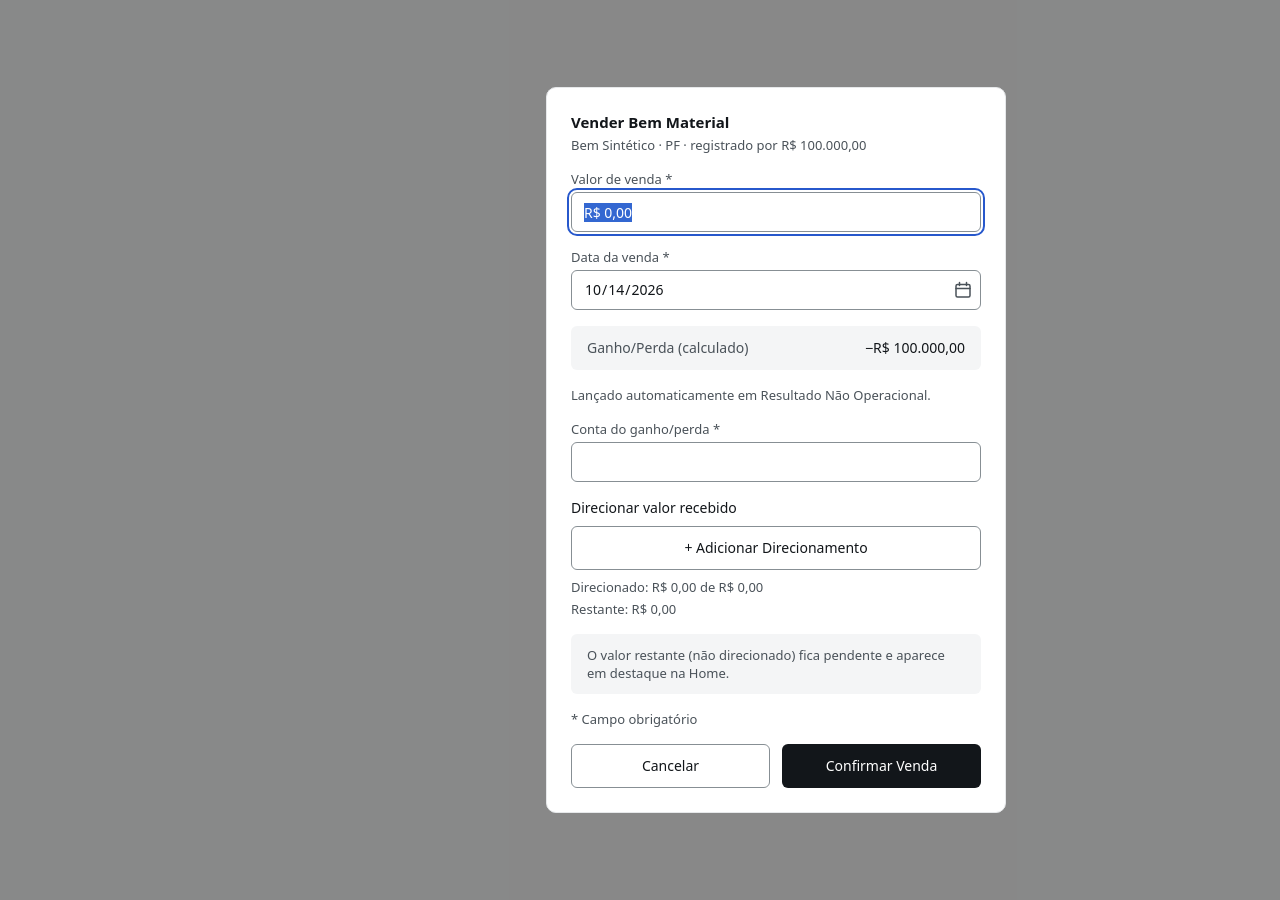
Scenario: Vender Bem Material — Destino de Passivo (files_design/03 "Objeto Direcionamento") › filtra a lista de passivos ao digitar, igual ao padrão de busca/criar categoria
Click the button "+ Adicionar Direcionamento" at (776, 548), box [571,526,981,570]
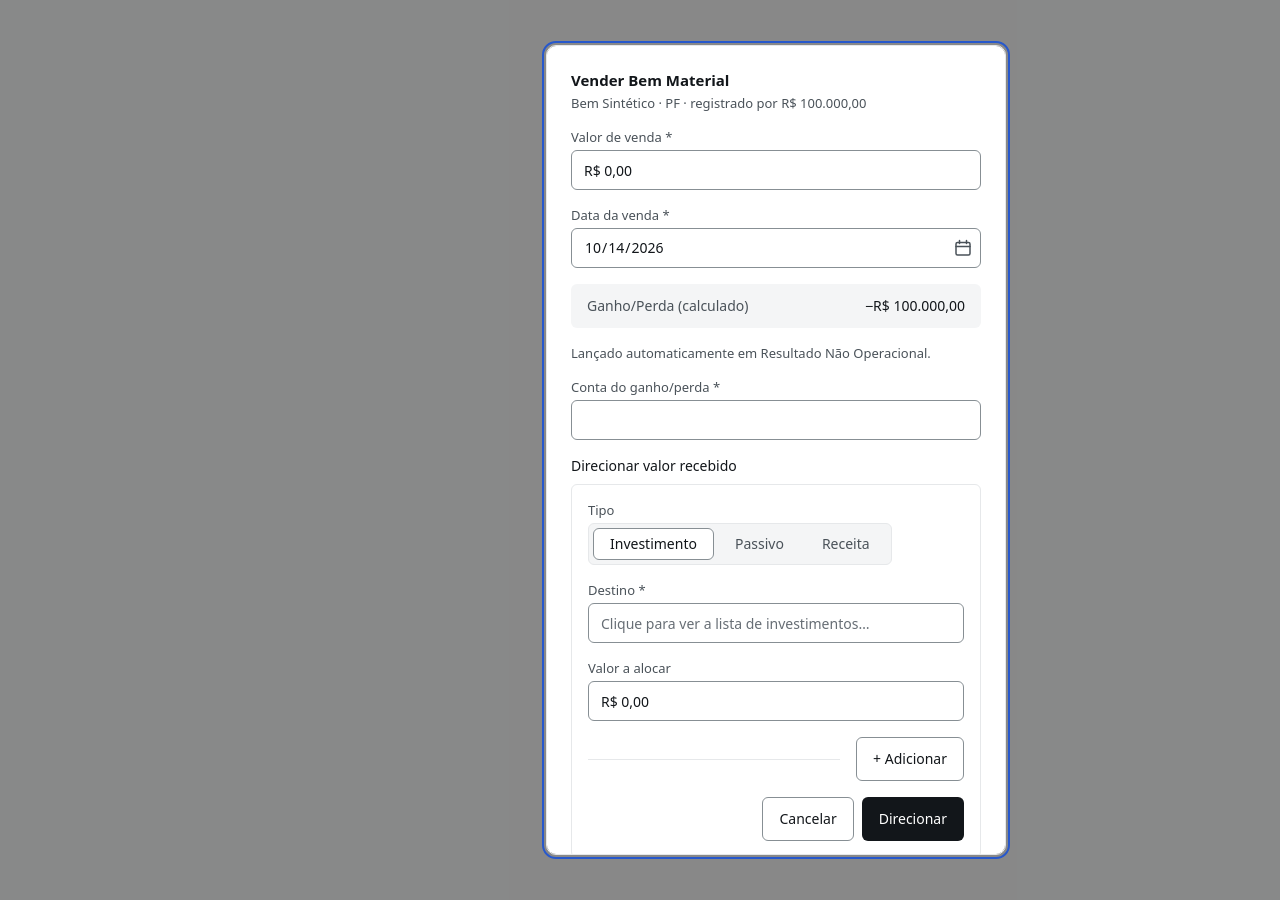
Click the radio button labelled "Passivo" at (759, 544), box [718,528,801,560]
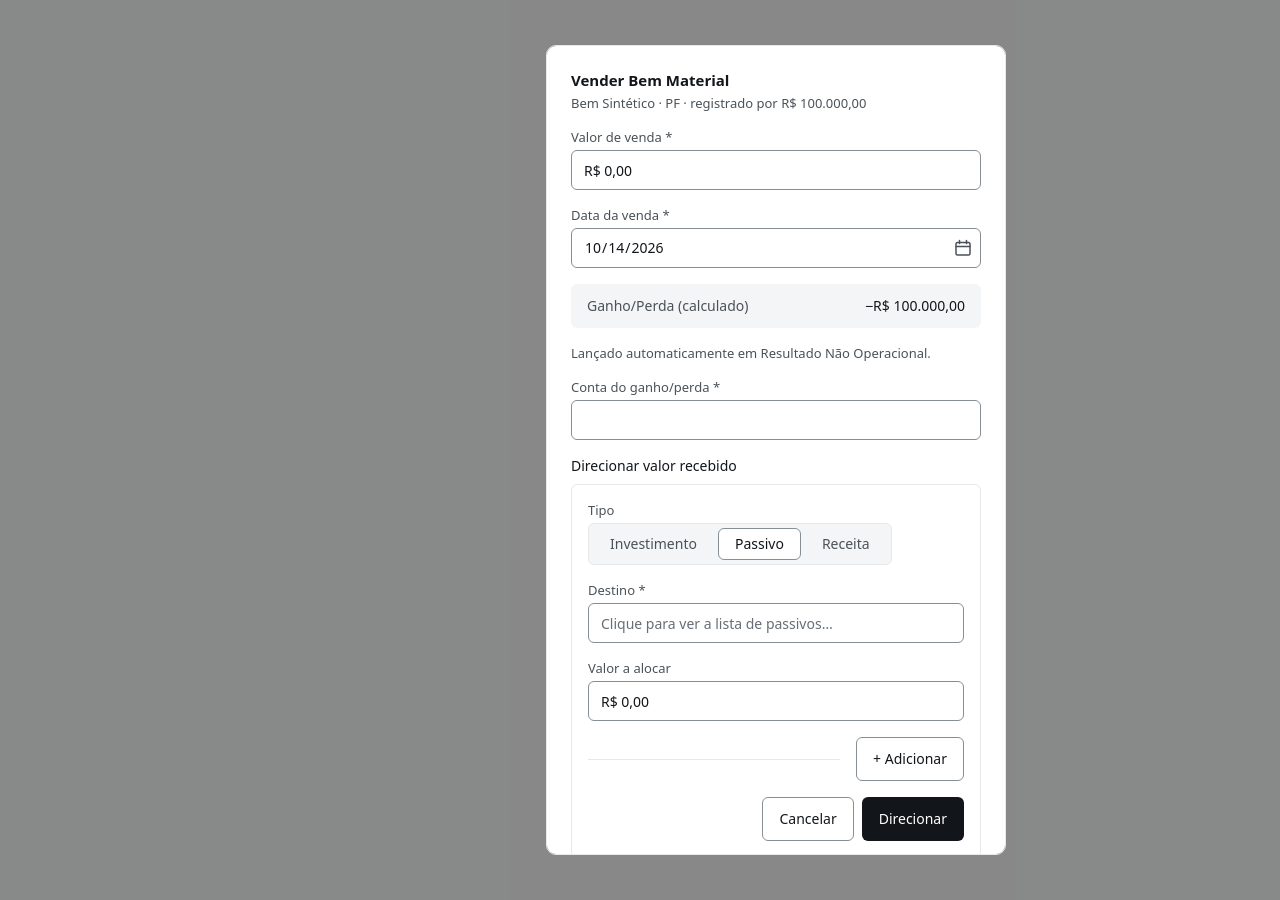
Type "Cartão" into the field labelled "Destino" at (776, 623), box [588,603,964,643]
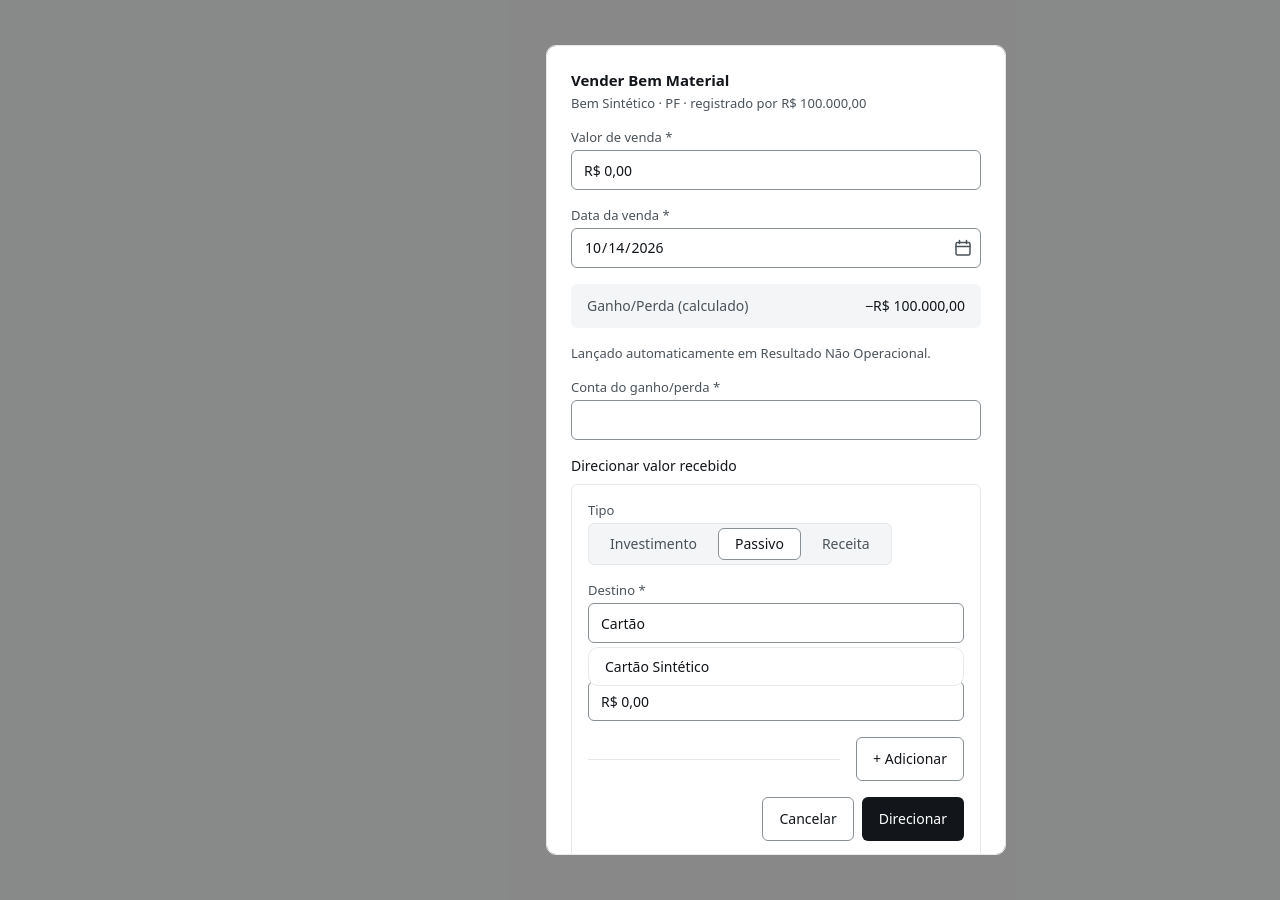
Expected: the button "Cartão Sintético" is shown, [593,652,959,681]
Expected: the dialog "Financiamento Sintético" is gone
